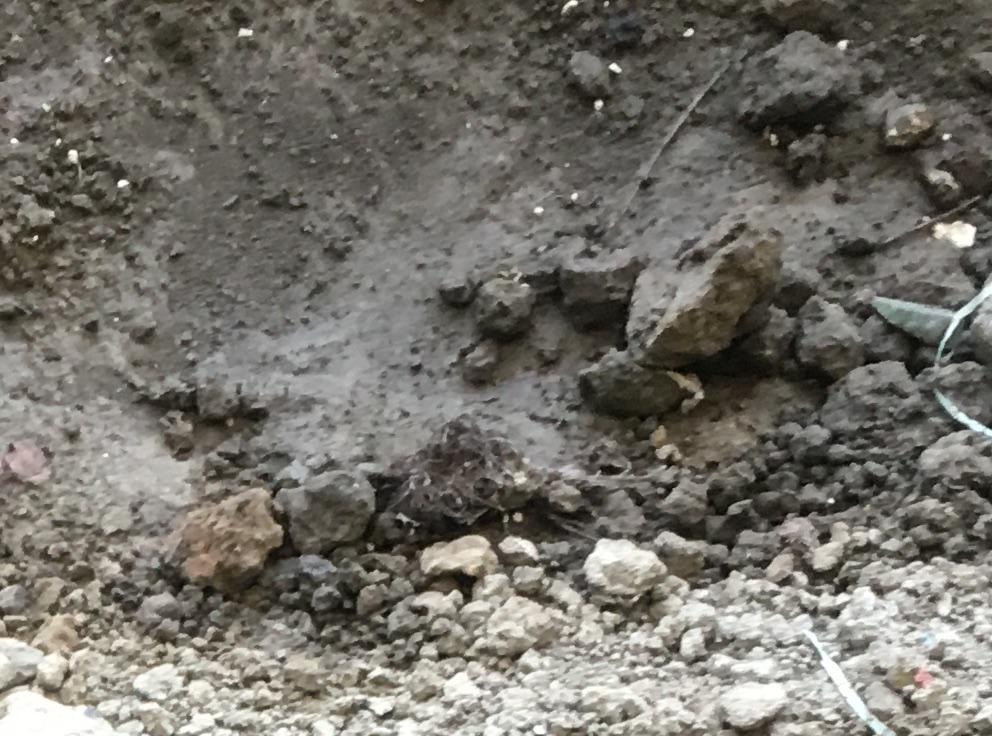block: (623, 212, 783, 362), (160, 483, 284, 588), (737, 29, 863, 125), (272, 462, 377, 550)
